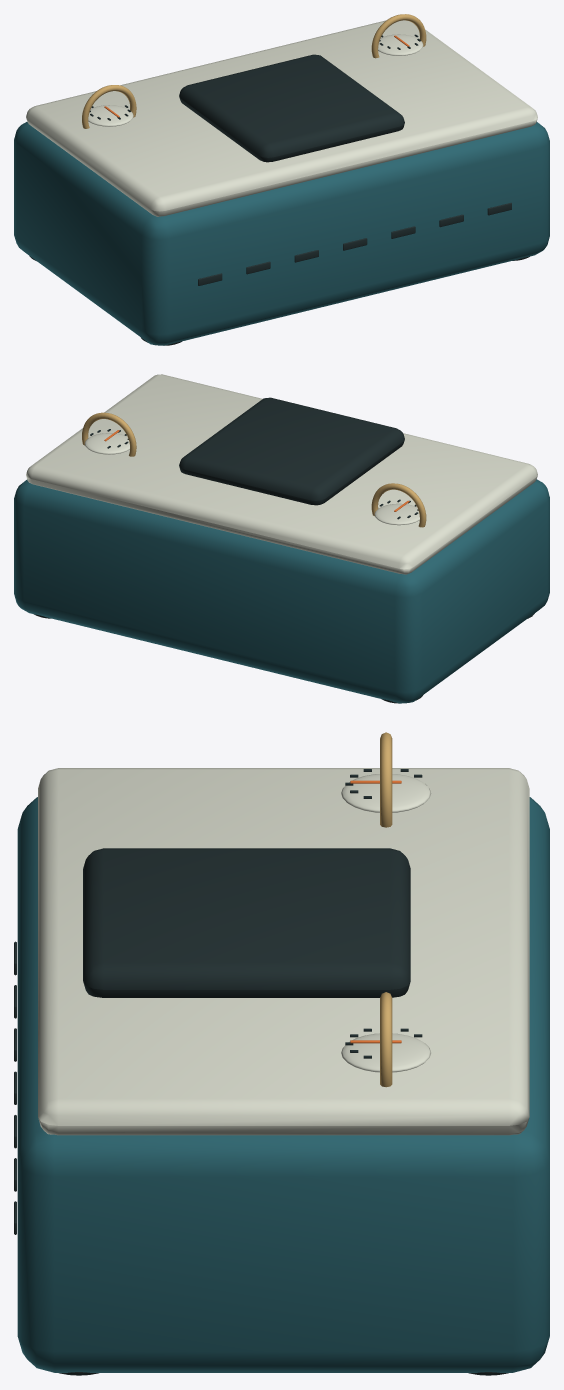
File: console.glb
The picture shows the model from 3 angles, top to bottom: view 1: azimuth 30°, elevation 25°; view 2: azimuth 150°, elevation 25°; view 3: azimuth 270°, elevation 25°; orthographic projection. The views are drawn at different scales.
Parts seen in each view (by area): view 1: Weighted console enclosure, Ivory control deck, Handle socket, Dial ivory face, Dial ivory face.001, Pressure dial.001, Pressure dial; view 2: Weighted console enclosure, Ivory control deck, Handle socket, Dial ivory face, Dial ivory face.001, Pressure dial, Pressure dial.001; view 3: Weighted console enclosure, Ivory control deck, Handle socket, Dial ivory face.001, Dial ivory face, Pressure dial, Pressure dial.001.
Part boxes in pixels (bbox=[...]): Weighted console enclosure: bbox=[14, 122, 549, 345]; Ivory control deck: bbox=[26, 20, 537, 216]; Handle socket: bbox=[179, 54, 404, 162]; Dial ivory face: bbox=[88, 105, 133, 126]; Dial ivory face.001: bbox=[378, 34, 423, 55]; Pressure dial.001: bbox=[371, 14, 426, 58]; Pressure dial: bbox=[82, 85, 136, 128]; Weighted console enclosure: bbox=[14, 479, 549, 703]; Ivory control deck: bbox=[26, 374, 537, 574]; Handle socket: bbox=[179, 397, 404, 505]; Dial ivory face: bbox=[374, 503, 419, 525]; Dial ivory face.001: bbox=[84, 433, 129, 454]; Pressure dial: bbox=[371, 483, 426, 527]; Pressure dial.001: bbox=[82, 412, 136, 456]; Weighted console enclosure: bbox=[17, 797, 549, 1372]; Ivory control deck: bbox=[38, 768, 529, 1135]; Handle socket: bbox=[83, 848, 410, 997]; Dial ivory face.001: bbox=[341, 1033, 430, 1072]; Dial ivory face: bbox=[341, 774, 431, 812]; Pressure dial: bbox=[380, 732, 392, 827]; Pressure dial.001: bbox=[380, 992, 392, 1087].
Size of the model in its own units: 0.42 by 0.184 by 0.2617.
